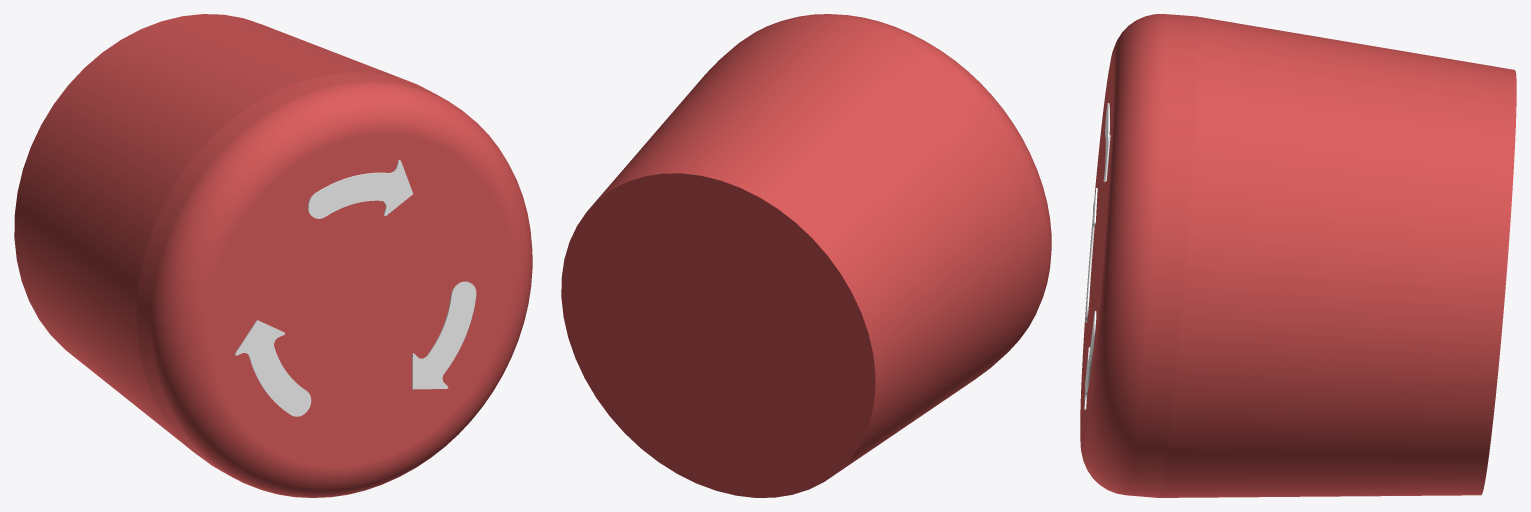
The model's file is E_Stop.glb.
3 renders of one model, left to right at view 1: azimuth 30°, elevation 25°; view 2: azimuth 150°, elevation 25°; view 3: azimuth 270°, elevation 25°, orthographic. The views are drawn at different scales.
Parts seen in each view (by area): view 1: E_Stop; view 2: E_Stop; view 3: E_Stop.
Boxes of the visible parts, x1,y1,x2,y2 form: E_Stop: [14, 14, 532, 497]; E_Stop: [561, 14, 1051, 497]; E_Stop: [1080, 14, 1516, 497].
Bounding box in the file's own units: 0.03 × 0.03 × 0.0271.
